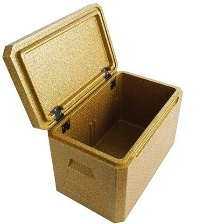foam_box: (0, 0, 185, 224)
